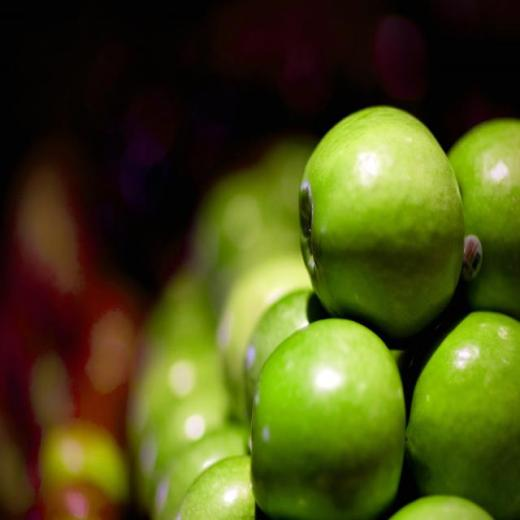Apple: (126, 104, 520, 520)
